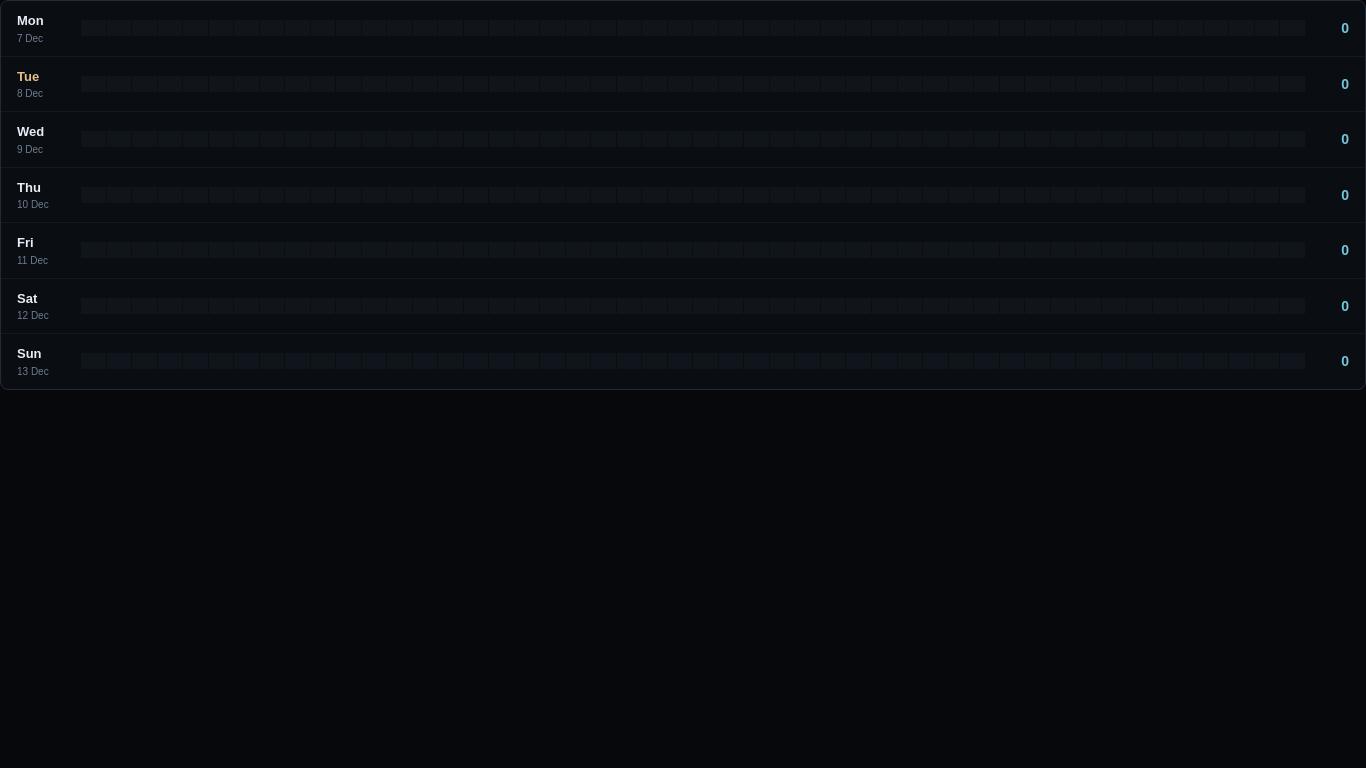
Test case: DaySummary zone note › names PST for a December day
Step 1. Click the button "Mon 7 Dec 0" → (683, 28), box [1, 1, 1365, 56]
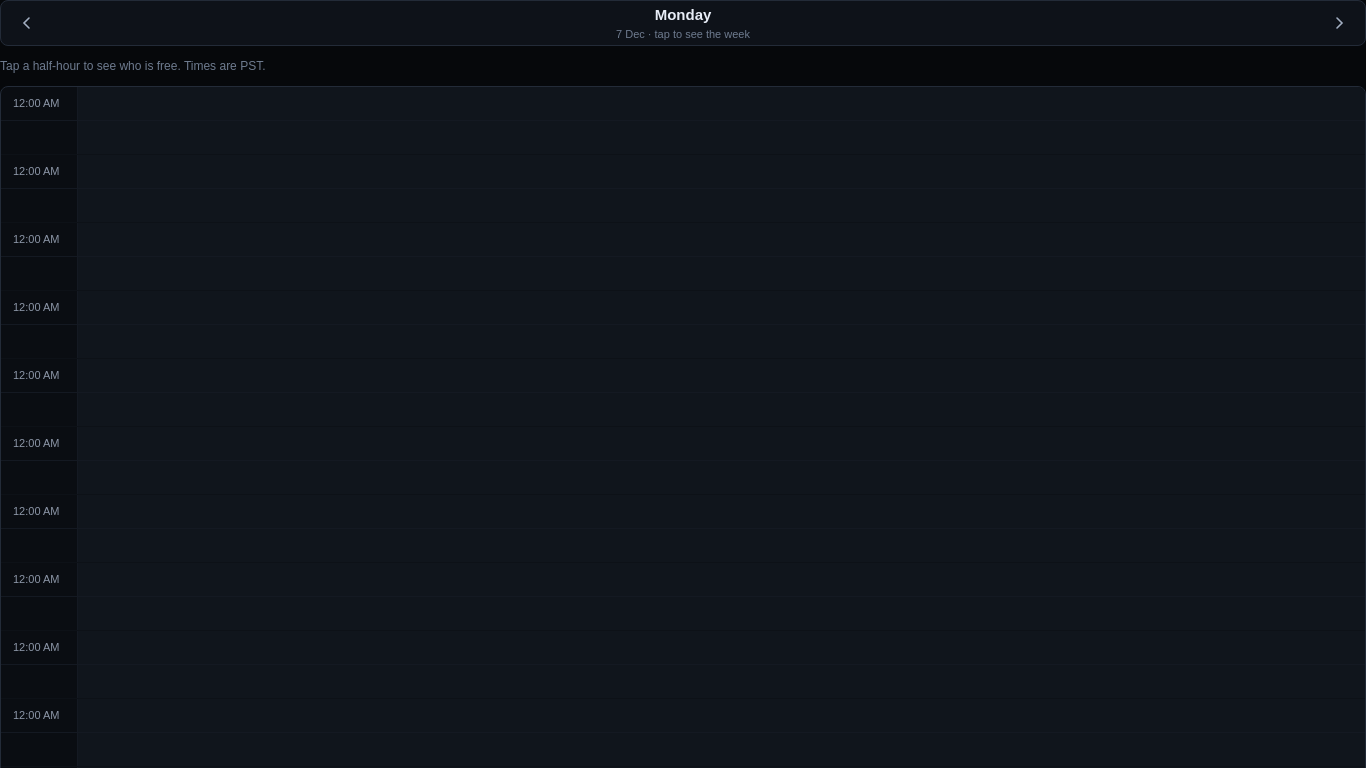
Check: the text "Times are PST." is shown, box [181, 59, 266, 73]
